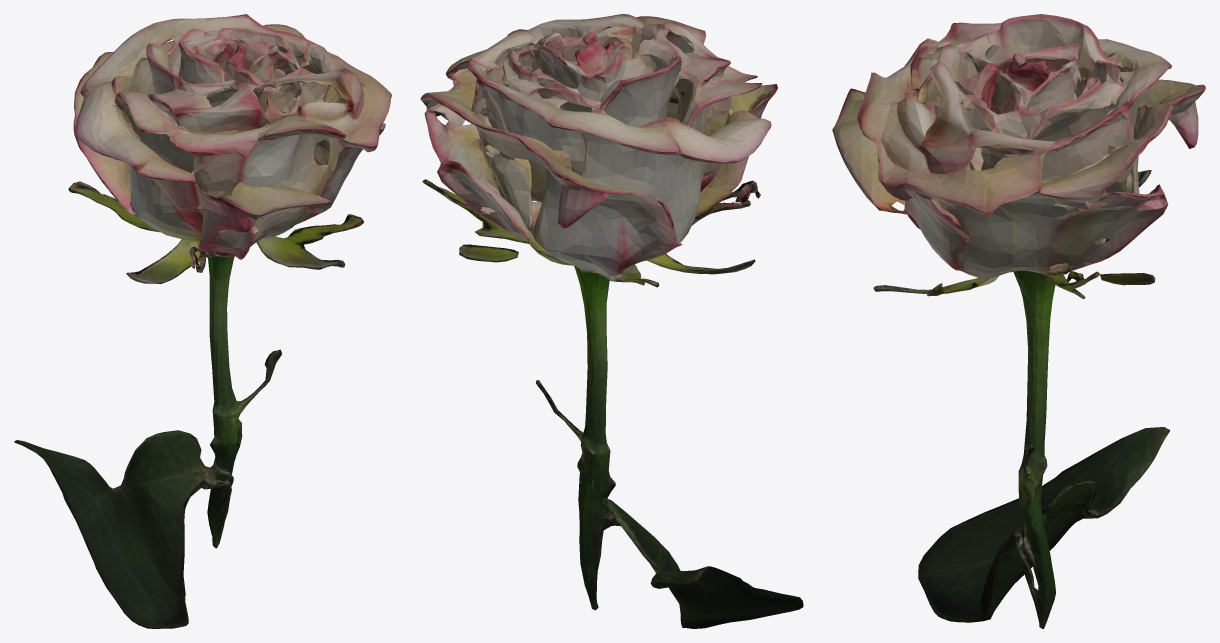
3 renders of one model, left to right at view 1: azimuth 30°, elevation 25°; view 2: azimuth 150°, elevation 25°; view 3: azimuth 270°, elevation 25°, orthographic. The views are drawn at different scales.
Visible parts, largest first — view 1: world; view 2: world; view 3: world.
Boxes of the visible parts, x1,y1,x2,y2 form: world: (14,14,391,628); world: (420,14,803,628); world: (832,14,1205,628).
Size of the model in its own units: 0.564 by 0.9711 by 0.5354.
Materials: 1 (1 with a texture image).
